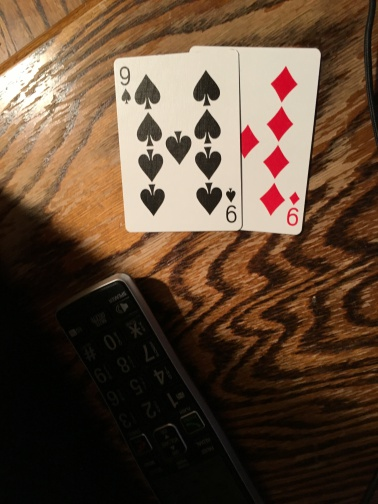nine: (113, 51, 246, 234), (238, 47, 321, 236)
